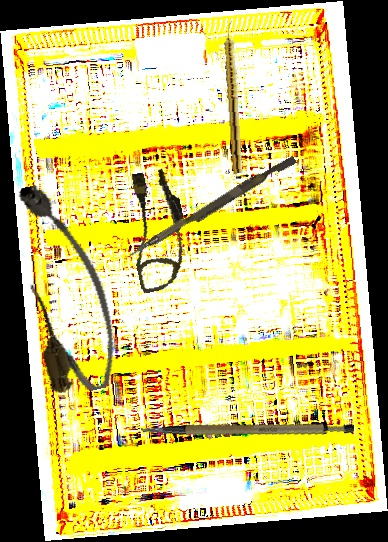Cannula: (5, 175, 126, 400), (117, 165, 198, 295)
Handpiece: (222, 21, 246, 174)
Pusher: (128, 151, 297, 264)
Scalpel Handle: (140, 392, 355, 463)
